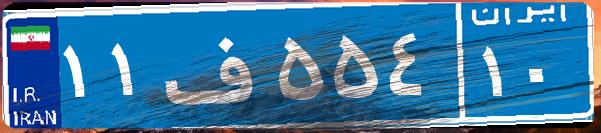0: (525, 38, 570, 115)
1: (57, 26, 110, 107), (475, 38, 525, 113), (110, 28, 158, 105)
4: (385, 28, 445, 110)
5: (273, 28, 330, 110), (330, 28, 385, 110)
ف: (158, 15, 273, 115)
